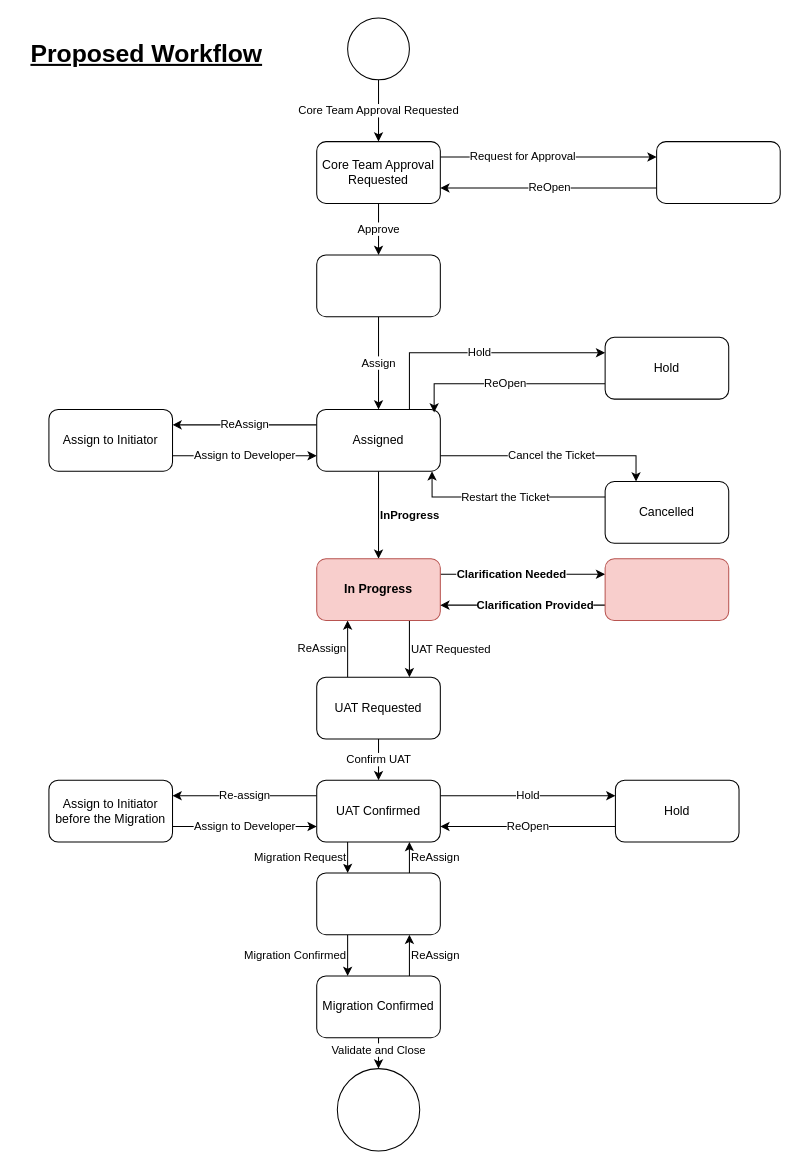
This 798x1169 diagram has some shape labels left out. The centre of each missing label's shape, as x and y in pixels:
Core Team Approved: the point at 378,285
Core Team Rejected: the point at 718,172
End: the point at 378,1109
Migration Requested: the point at 378,903
Start: the point at 378,48
Under Clarification: the point at 666,589
